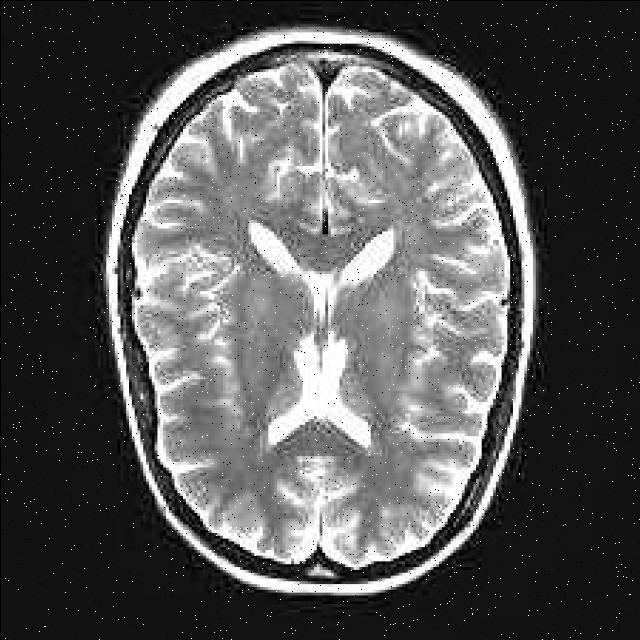No_Tumor: (104, 27, 535, 594)
